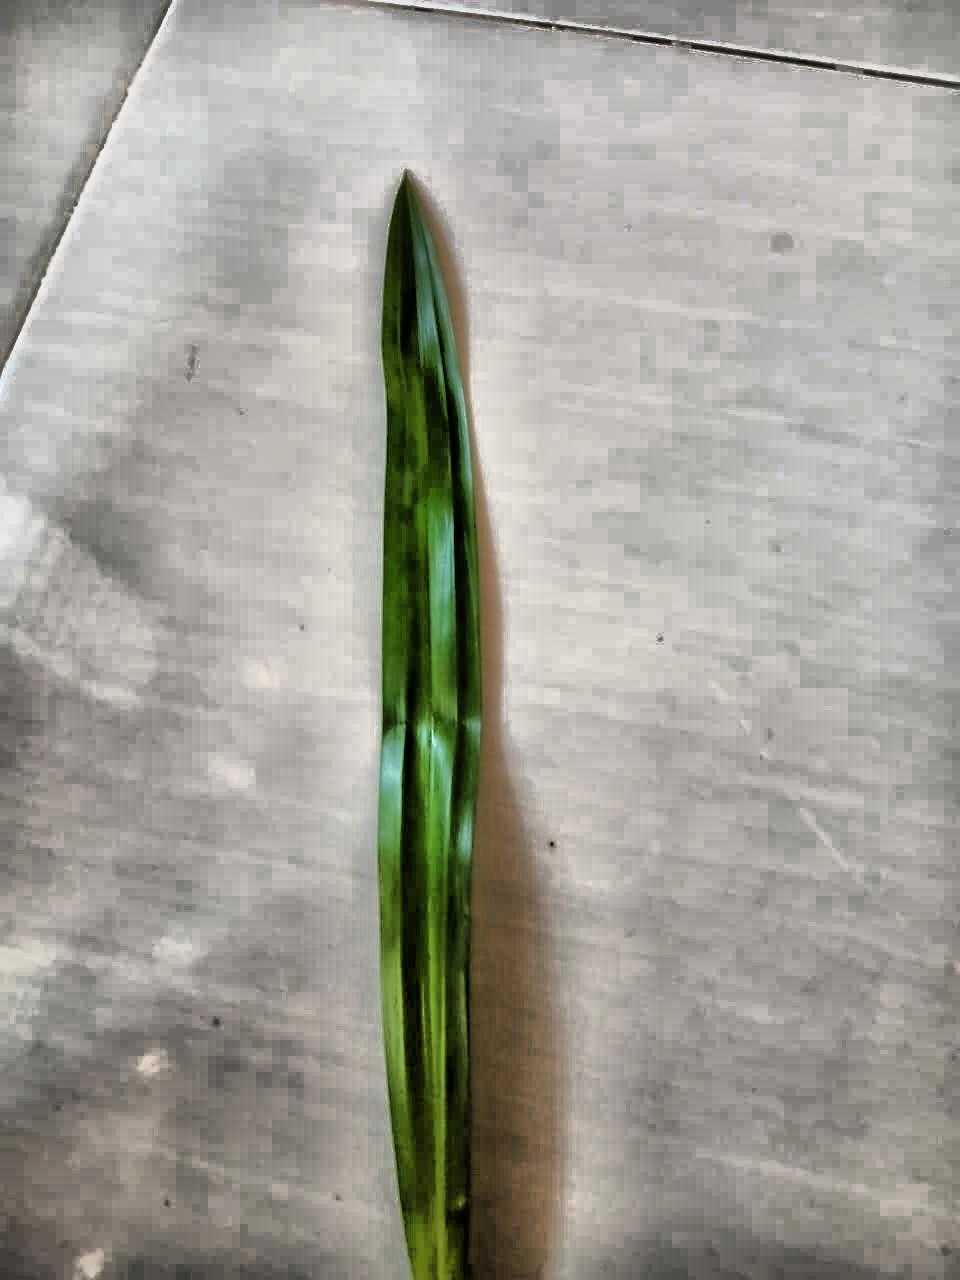daun pandan: (377, 173, 482, 1279)
